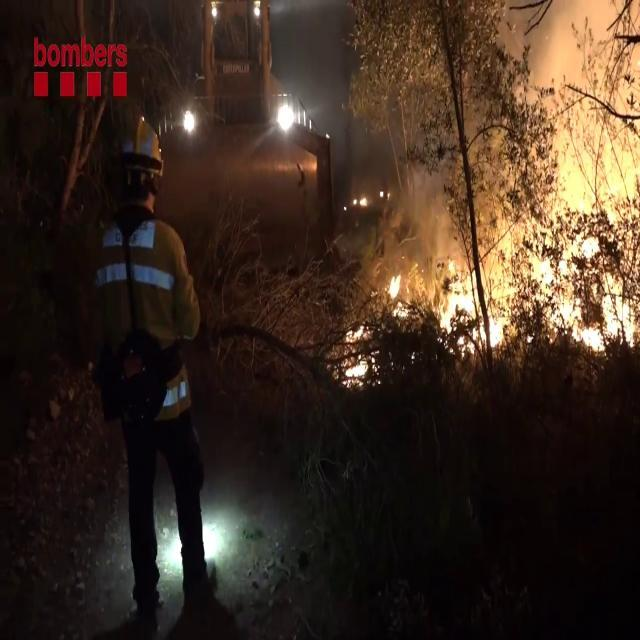Fire: (334, 250, 510, 392)
Smoke: (479, 0, 640, 356)
